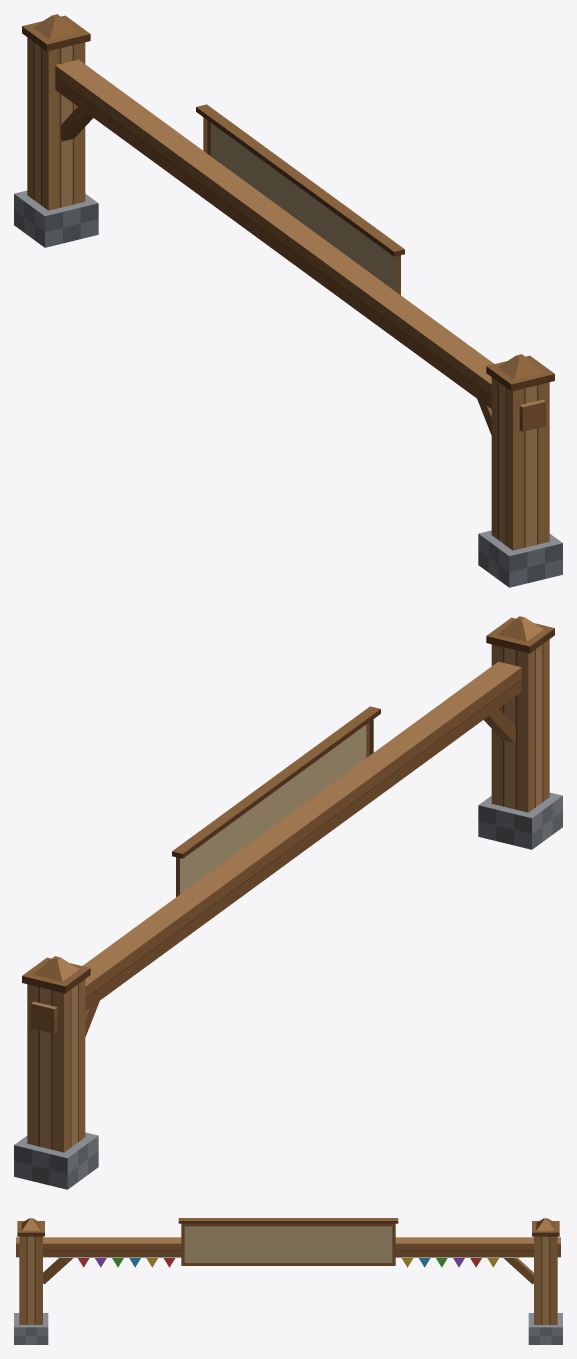
Rendered from arch_gate.glb.
3 renders of one model, top to bottom at view 1: azimuth 30°, elevation 25°; view 2: azimuth 150°, elevation 25°; view 3: azimuth 270°, elevation 25°, orthographic. The views are drawn at different scales.
Visible parts, largest first — view 1: arch_gate; view 2: arch_gate; view 3: arch_gate.
Part boxes in pixels (left/top/right/bottom): arch_gate: left=14, top=14, right=562, bottom=587; arch_gate: left=14, top=616, right=562, bottom=1189; arch_gate: left=14, top=1218, right=562, bottom=1344.
Bounding box in the file's own units: 1.6 × 6.24 × 25.6.
